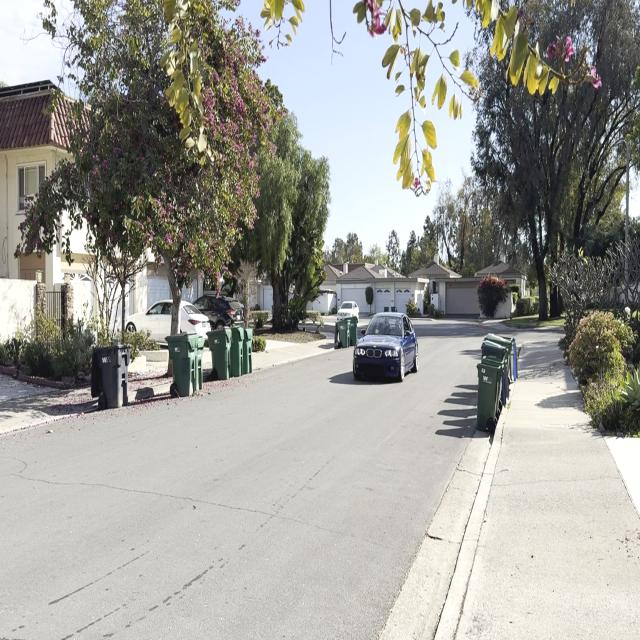Carbeetle: (346, 293, 427, 393)
